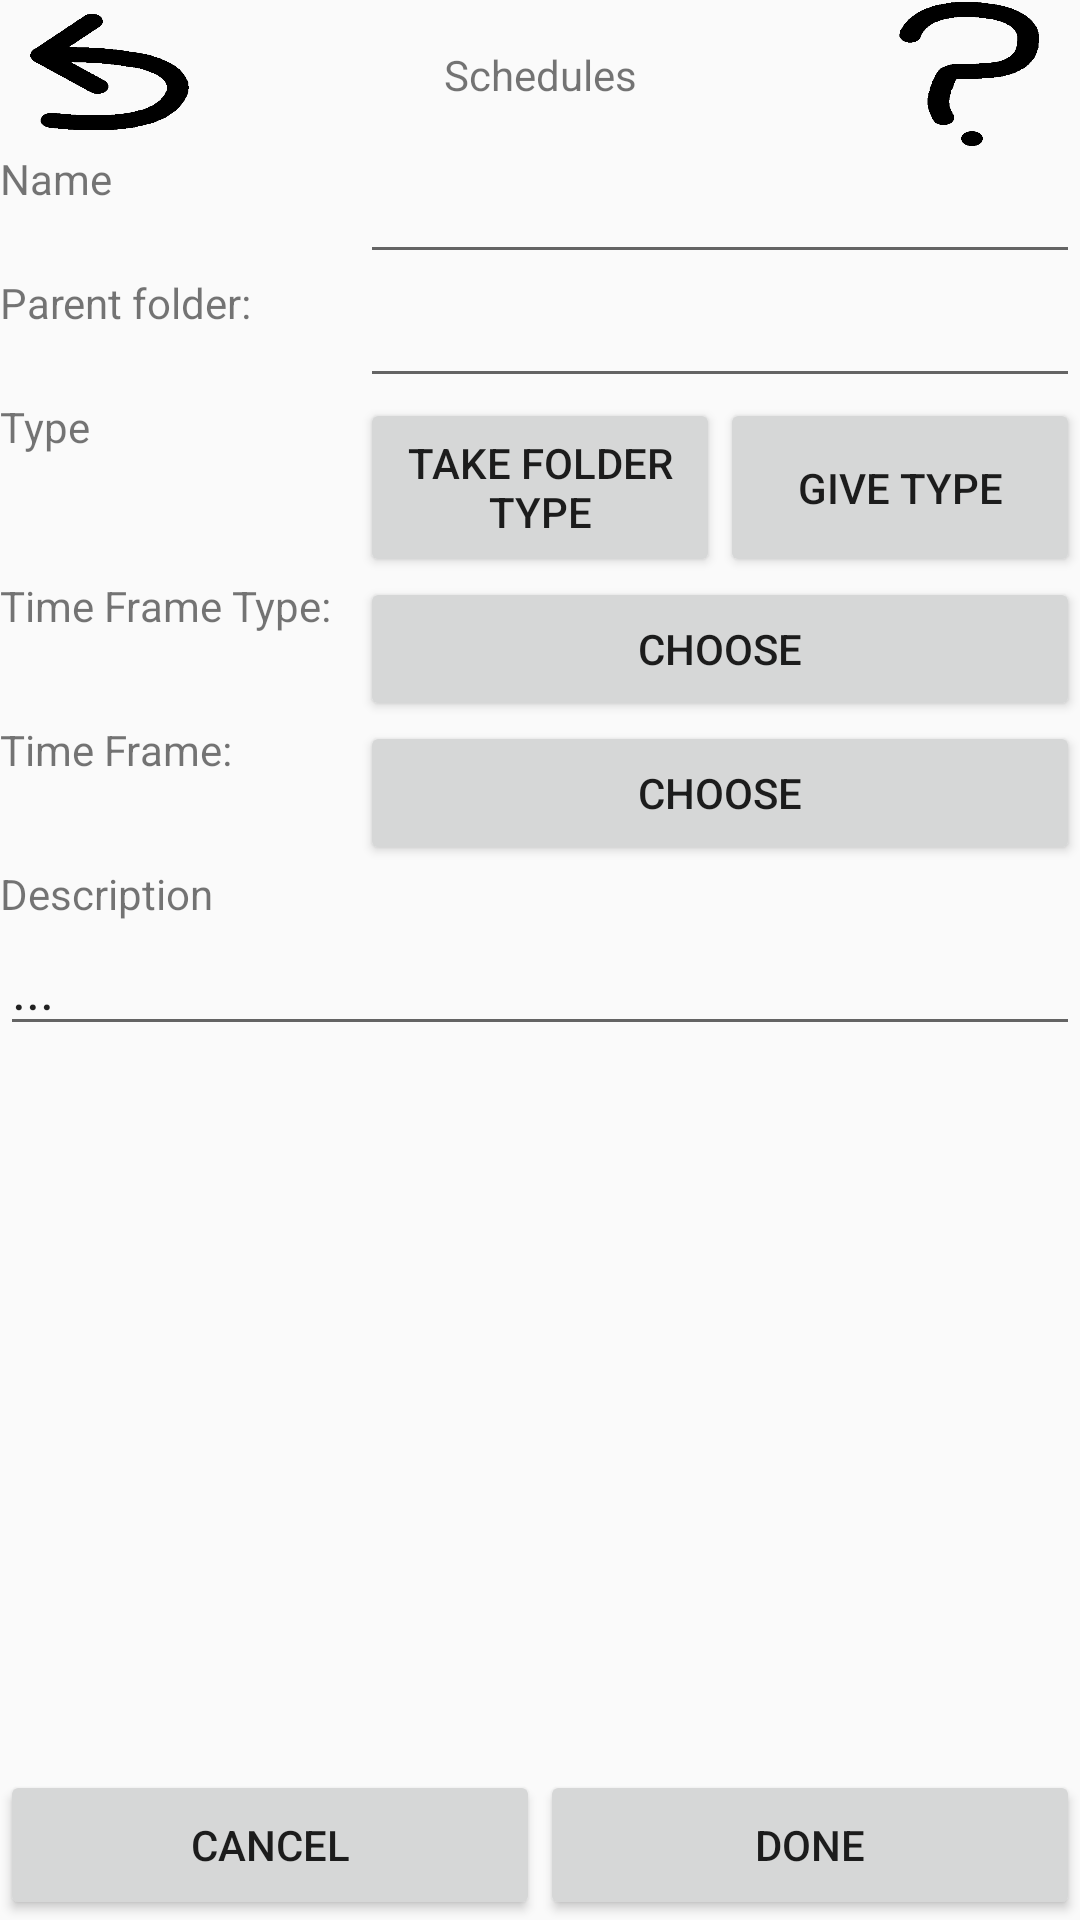

Locate icon controls on the screen. Image size 1080x1920, boxes as [x1=x1, y1=y1, x2=x2, y2=y2].
backbutton: [x1=30, y1=14, x2=189, y2=130]
questionmark: [x1=899, y1=2, x2=1039, y2=146]
